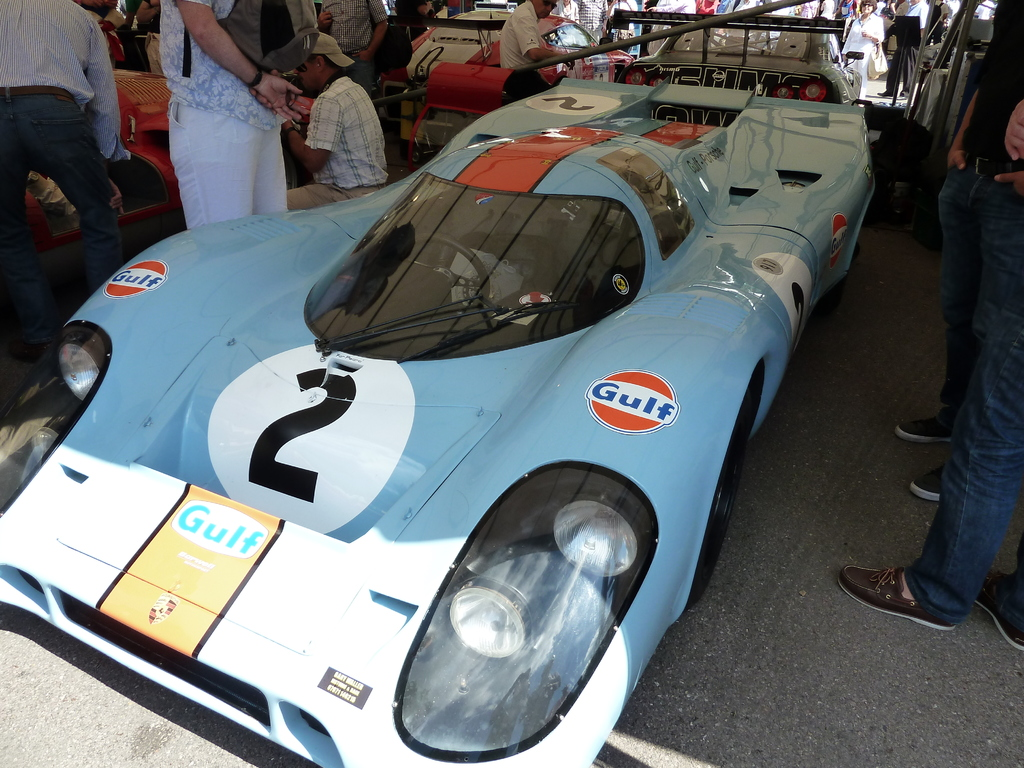person: (879, 0, 930, 100)
